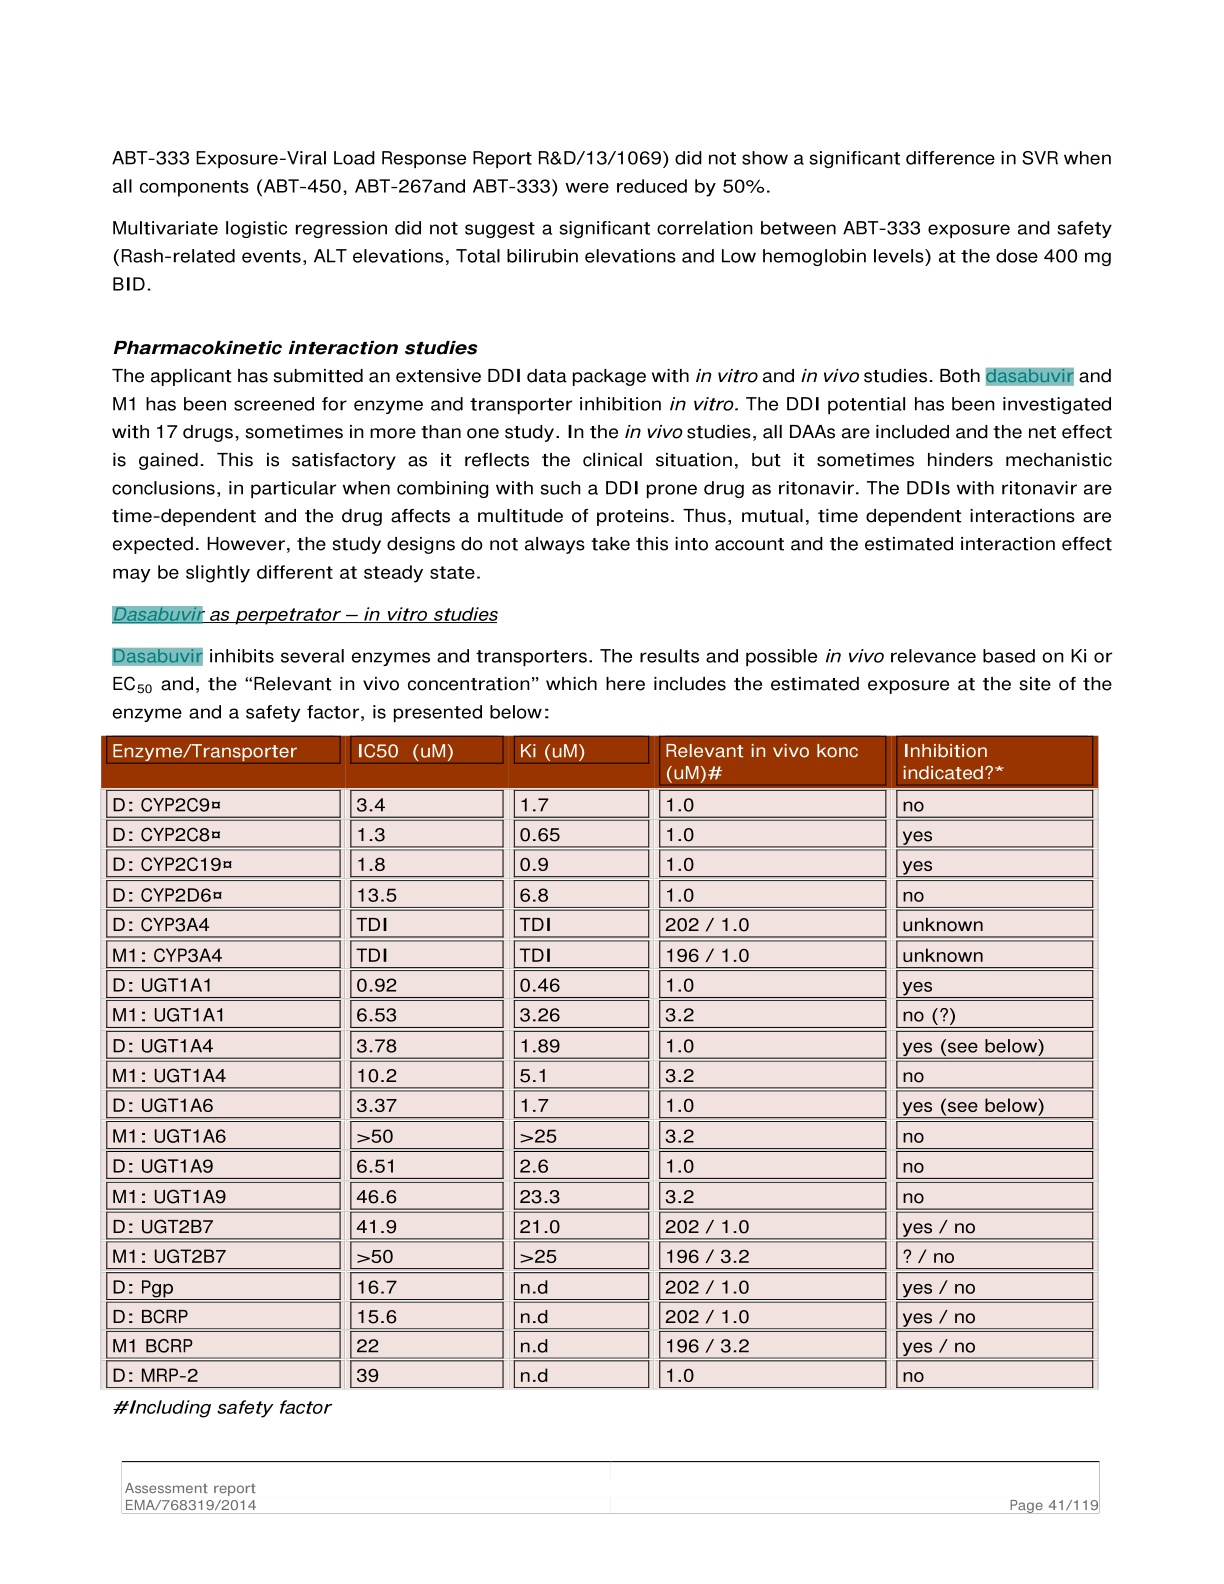full_lined: (99, 734, 1099, 1390)
